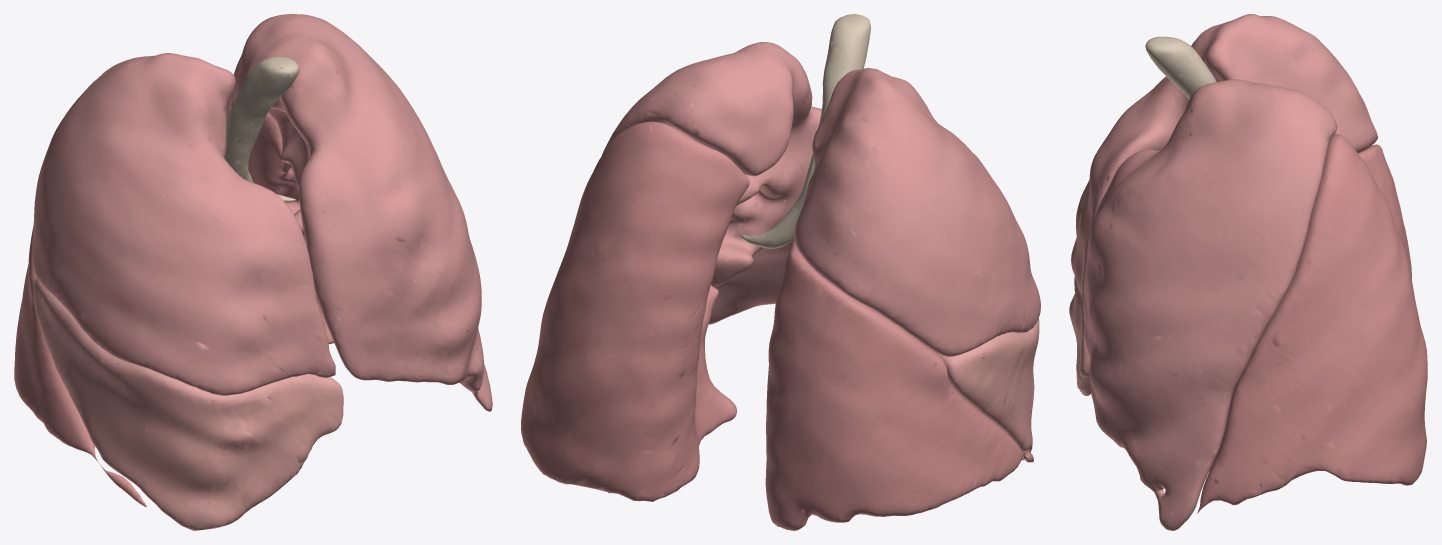
Rendered from s1045_lungs.glb.
3 views of the same model, side by side, from view 1: azimuth 30°, elevation 25°; view 2: azimuth 150°, elevation 25°; view 3: azimuth 270°, elevation 25° (orthographic). The views are drawn at different scales.
Parts seen in each view (by area): view 1: lung_upper_lobe_right, lung_upper_lobe_left, lung_middle_lobe_right, lung_lower_lobe_right, trachea, lung_lower_lobe_left; view 2: lung_lower_lobe_left, lung_upper_lobe_right, lung_lower_lobe_right, lung_upper_lobe_left, lung_middle_lobe_right, trachea; view 3: lung_upper_lobe_left, lung_lower_lobe_left, lung_upper_lobe_right, trachea, lung_lower_lobe_right, lung_middle_lobe_right.
Boxes of the visible parts, <box> form: lung_upper_lobe_right: <box>32,53,335,395</box>; lung_upper_lobe_left: <box>233,14,492,411</box>; lung_middle_lobe_right: <box>33,278,343,530</box>; lung_lower_lobe_right: <box>14,226,146,506</box>; trachea: <box>224,56,299,201</box>; lung_lower_lobe_left: <box>231,72,333,343</box>; lung_lower_lobe_left: <box>521,121,749,501</box>; lung_upper_lobe_right: <box>794,68,1040,356</box>; lung_lower_lobe_right: <box>765,240,1033,530</box>; lung_upper_lobe_left: <box>602,42,821,324</box>; lung_middle_lobe_right: <box>934,318,1039,460</box>; trachea: <box>740,14,870,248</box>; lung_upper_lobe_left: <box>1083,79,1337,530</box>; lung_lower_lobe_left: <box>1197,134,1427,513</box>; lung_upper_lobe_right: <box>1071,14,1378,321</box>; trachea: <box>1145,36,1216,99</box>; lung_lower_lobe_right: <box>1358,144,1411,279</box>; lung_middle_lobe_right: <box>1069,276,1090,395</box>.
Bounding box in the file's own units: 0.276 × 0.2601 × 0.2109.
